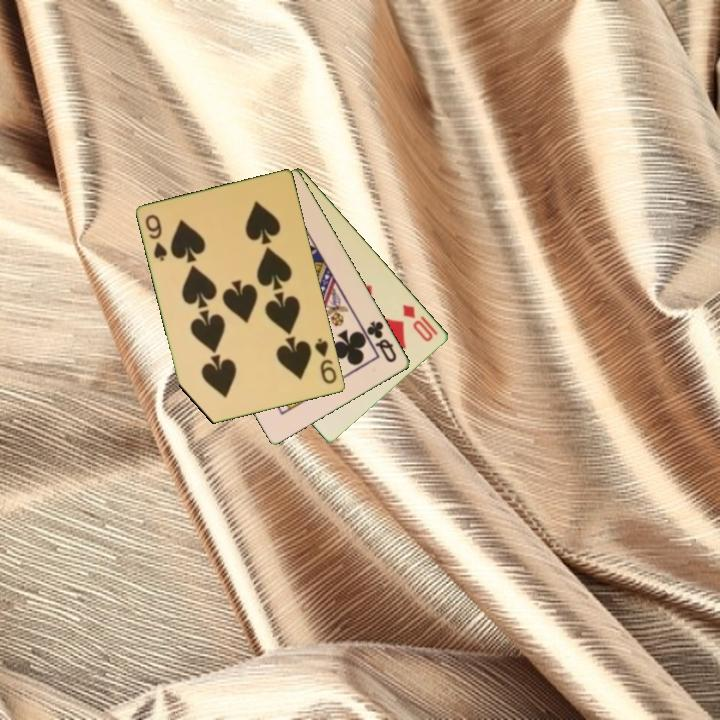10d: (399, 301, 436, 345)
9s: (142, 211, 171, 264), (311, 335, 340, 387)
Qc: (363, 317, 400, 366)
